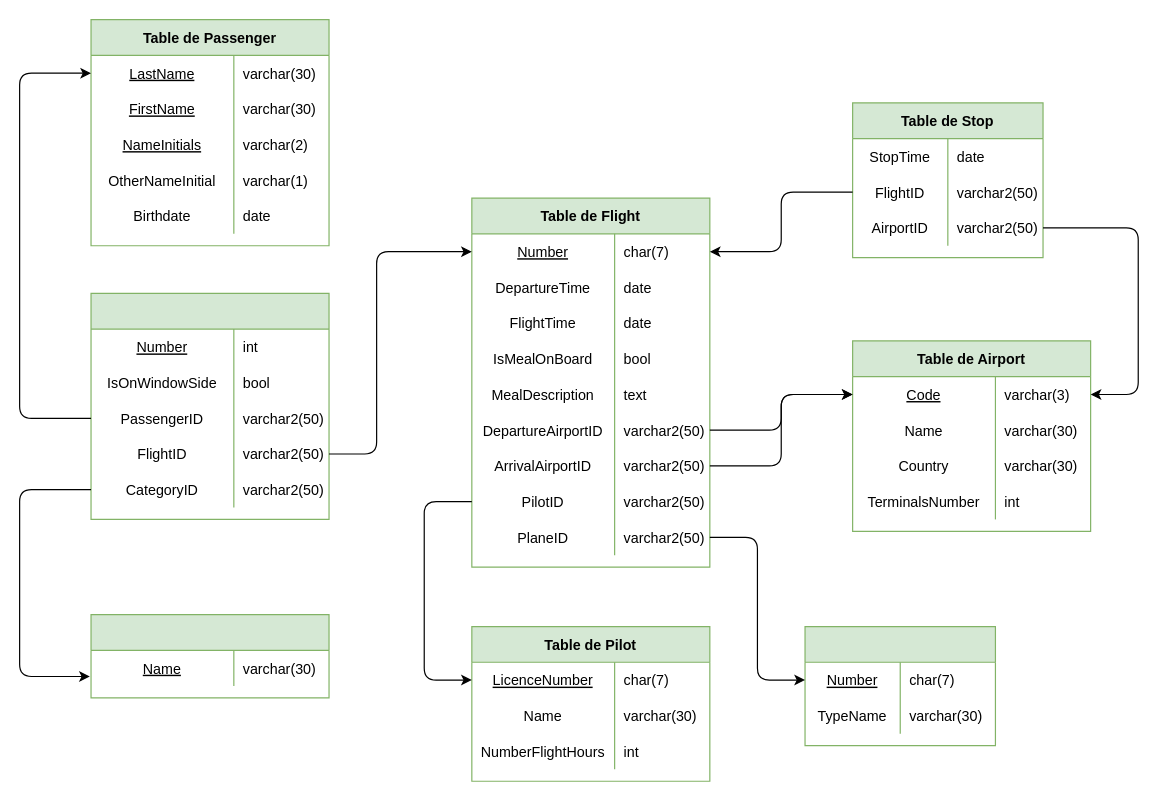
This 1158x801 diagram has some shape labels left out. The shapes that lost their labels are listed below. From the top down, each one's box as (x1, y1, x2, y2) in pixels, then its label:
(90, 292, 329, 519): Table de Seat
(90, 613, 329, 698): Table de Category
(804, 625, 995, 746): Table de Plane
